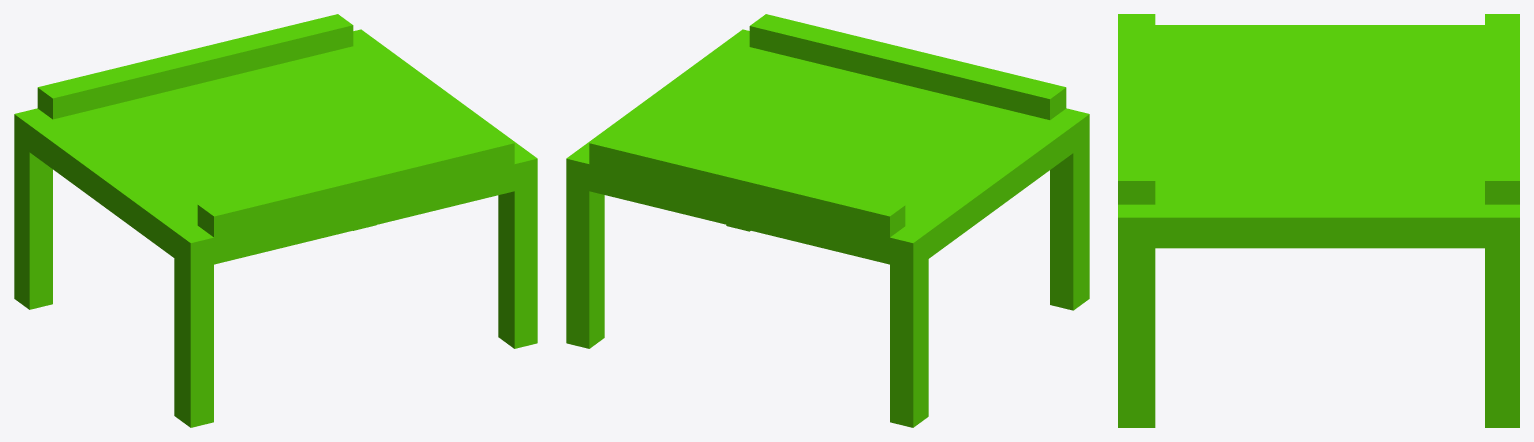
File: taula.FBX
3 renders of one model, left to right at view 1: azimuth 30°, elevation 25°; view 2: azimuth 150°, elevation 25°; view 3: azimuth 270°, elevation 25°, orthographic. The views are drawn at different scales.
Visible parts, largest first — view 1: Box003; view 2: Box003; view 3: Box003.
Part boxes in pixels (<box>): Box003: <box>14,14,537,427</box>; Box003: <box>566,14,1089,427</box>; Box003: <box>1118,14,1519,427</box>.
Bounding box in the file's own units: 92.33 × 52.32 × 81.39.
